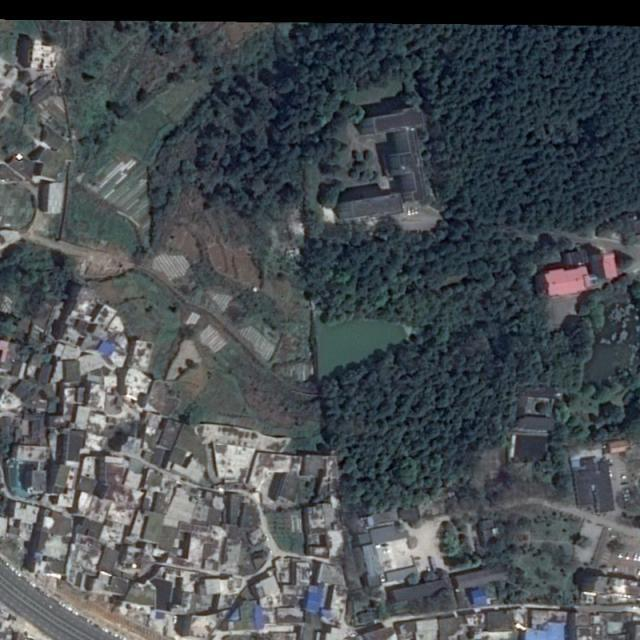vehicle: (109, 629, 120, 640), (378, 572, 386, 584), (65, 606, 74, 614), (72, 609, 81, 617), (118, 634, 130, 640), (14, 570, 22, 578), (102, 626, 110, 634), (58, 601, 66, 608), (28, 582, 35, 589)
